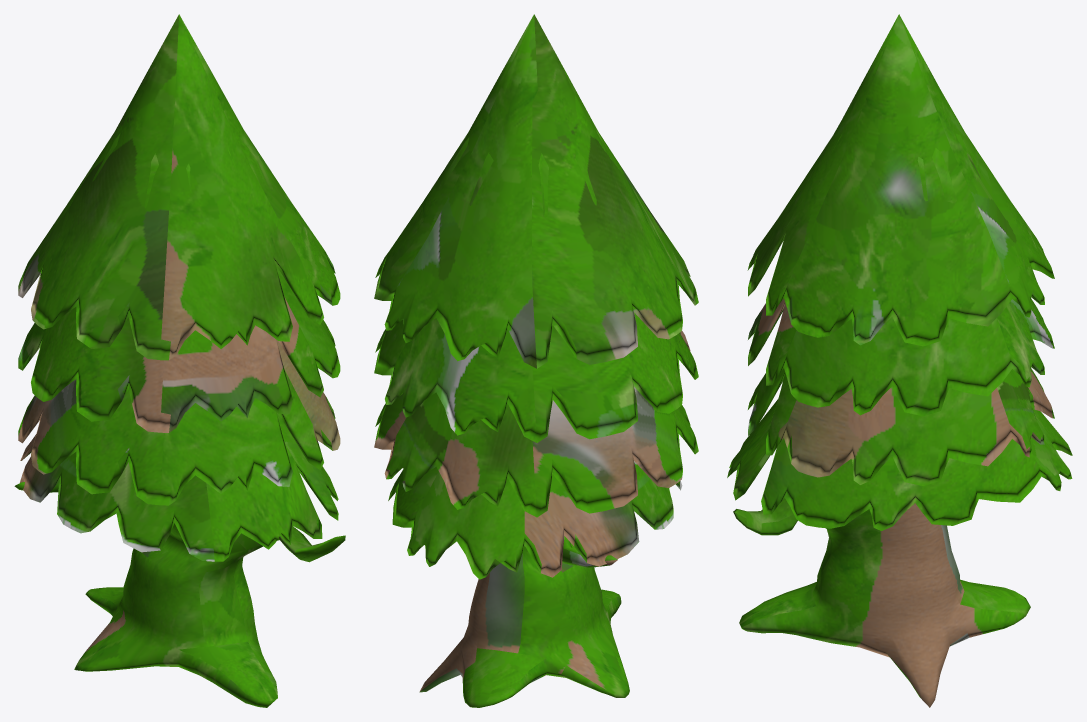
The model's file is OakTreeTextured.fbx.
3 views of the same model, side by side, from view 1: azimuth 30°, elevation 25°; view 2: azimuth 150°, elevation 25°; view 3: azimuth 270°, elevation 25° (orthographic). The views are drawn at different scales.
Parts seen in each view (by area): view 1: pCube2; view 2: pCube2; view 3: pCube2.
Part boxes in pixels (<box>): pCube2: <box>14,14,345,707</box>; pCube2: <box>374,14,698,707</box>; pCube2: <box>727,14,1072,707</box>.
Size of the model in its own units: 4.01 by 9.29 by 4.49.
